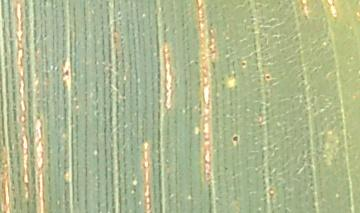tarspot: (232, 135, 239, 142), (265, 75, 271, 80), (242, 62, 246, 67)
